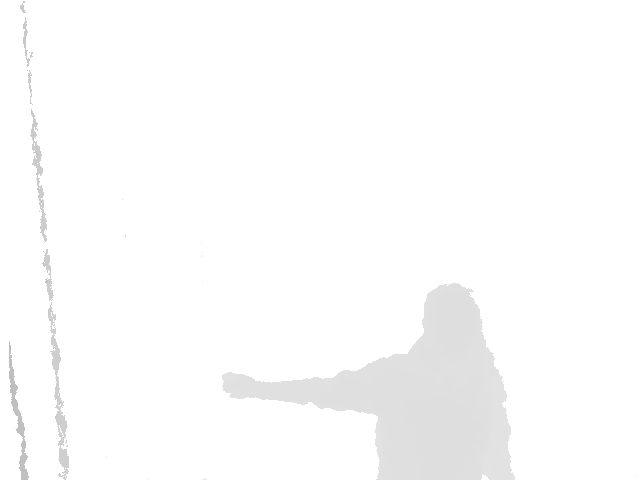head: (419, 284, 482, 365)
person: (223, 284, 512, 480)
